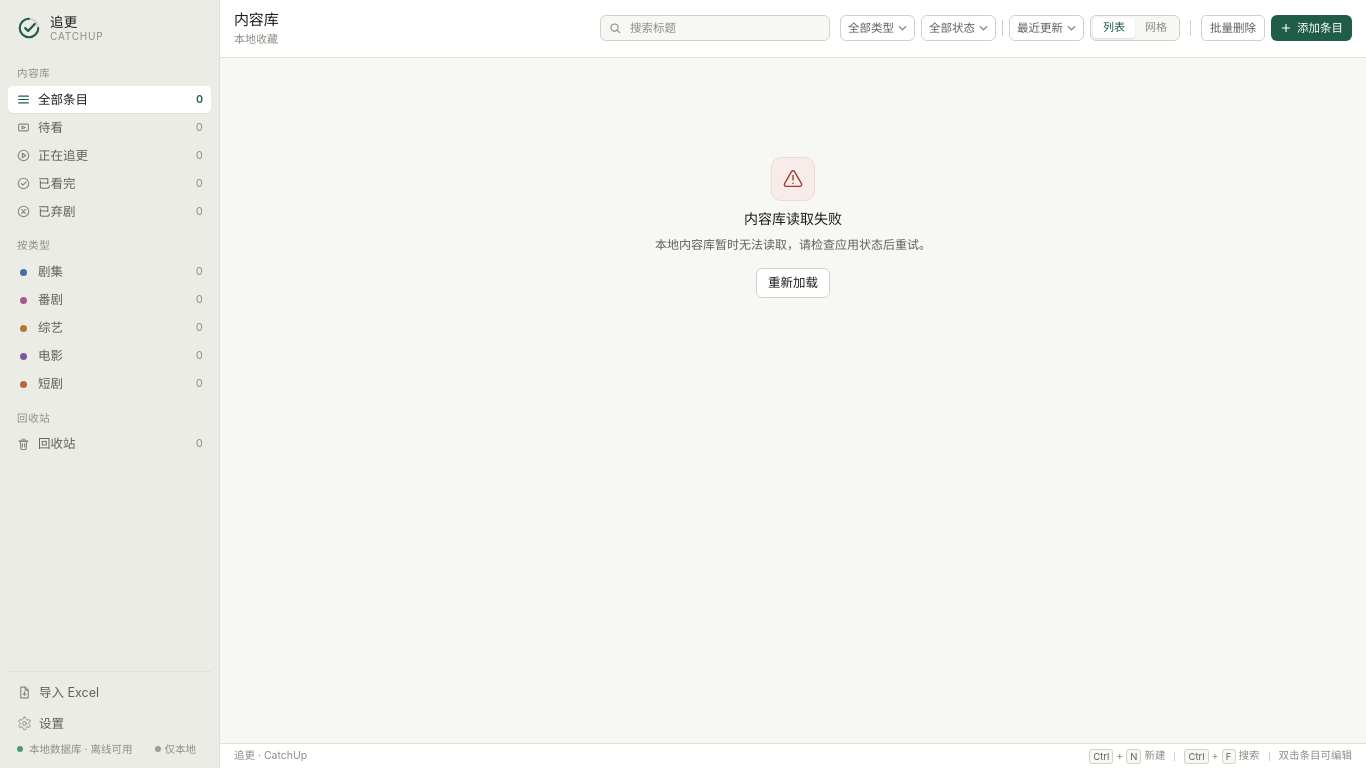
内容库 › 读取失败时显示中文提示，并可通过重试恢复
Expected: the message shows "本地内容库暂时无法读取，请检查应用状态后重试。", top-left (655, 237), bottom-right (931, 252)
Click the button "重新加载".
click(793, 283)  # box top-left (756, 268), bottom-right (830, 298)
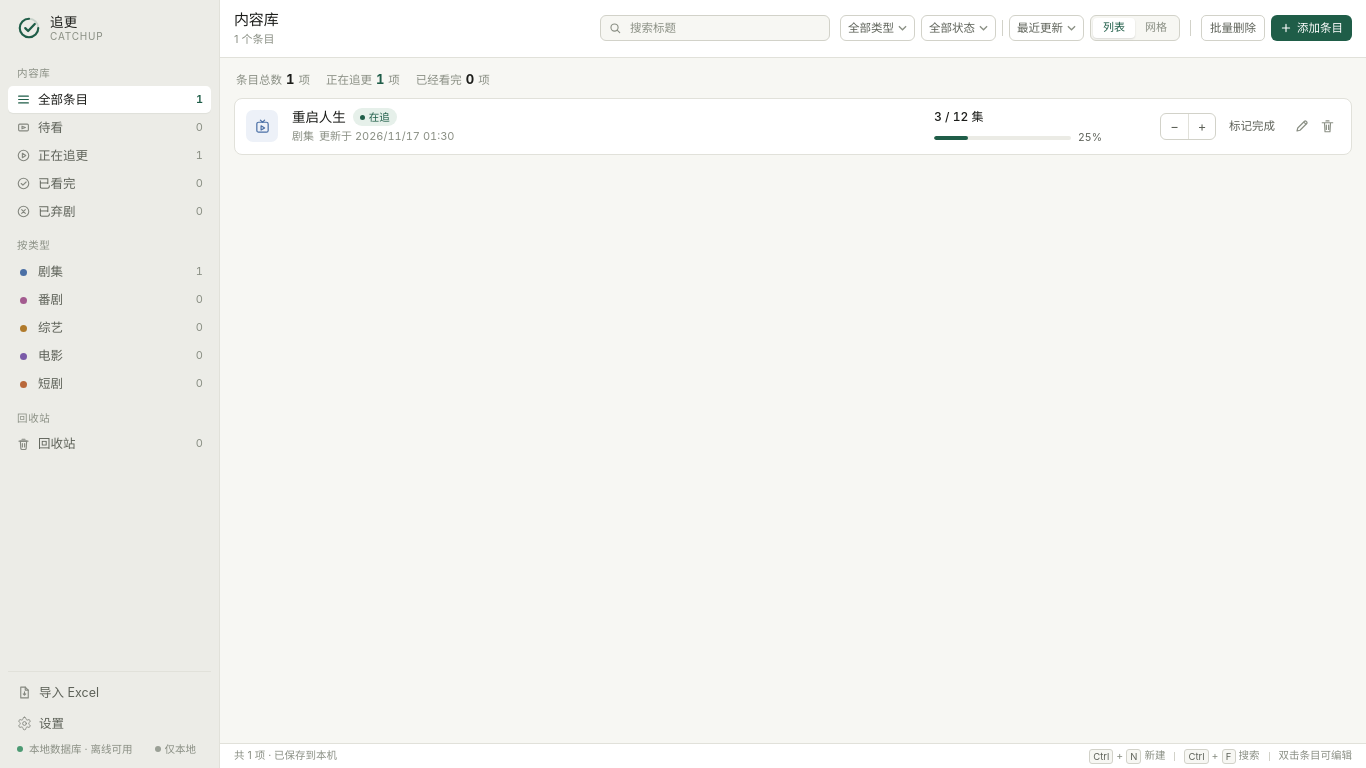
Expected: the element "重启人生" is shown, top-left (234, 98), bottom-right (1352, 155)
Expected: the message "内容库读取失败 本地内容库暂时无法读取，请检查应用状态后重试。 重新加载" is gone
